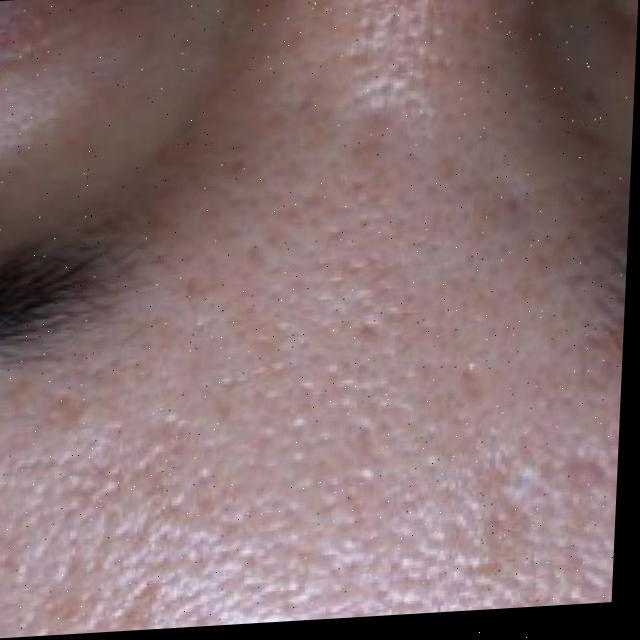Acne: (43, 20, 630, 636)
